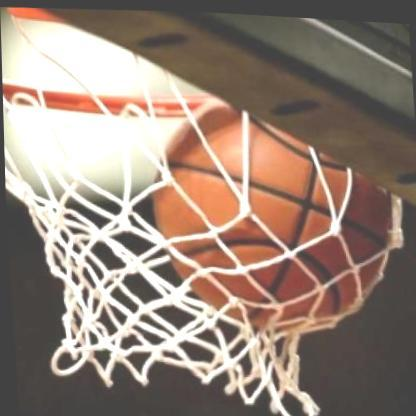basketball: (130, 72, 404, 338)
